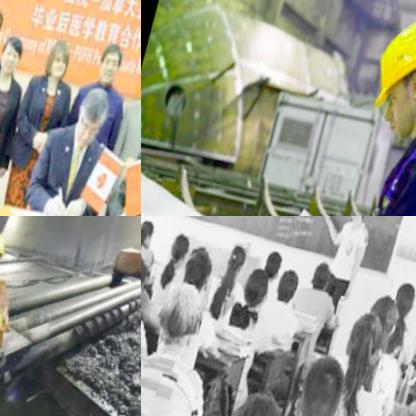head: (155, 275, 216, 360), (292, 343, 359, 416), (210, 378, 303, 416), (342, 301, 392, 368), (71, 81, 116, 146), (364, 286, 405, 344), (183, 239, 217, 286), (386, 271, 416, 323), (243, 258, 274, 304), (94, 37, 126, 81), (275, 259, 306, 303), (0, 30, 29, 75), (166, 225, 196, 267), (308, 248, 338, 290), (44, 34, 73, 75), (224, 233, 251, 274), (263, 240, 288, 274), (141, 245, 154, 309), (141, 216, 158, 242)
helmet: (355, 0, 416, 146), (0, 222, 13, 272)
